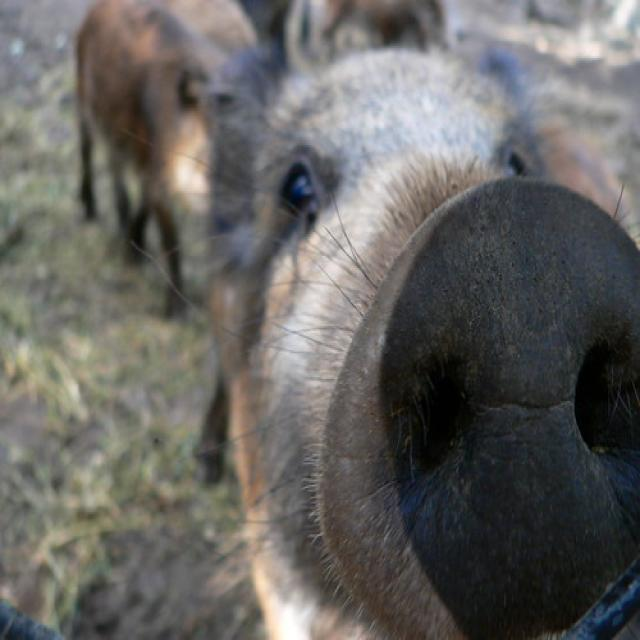boar: (191, 30, 640, 640), (53, 0, 270, 316)
